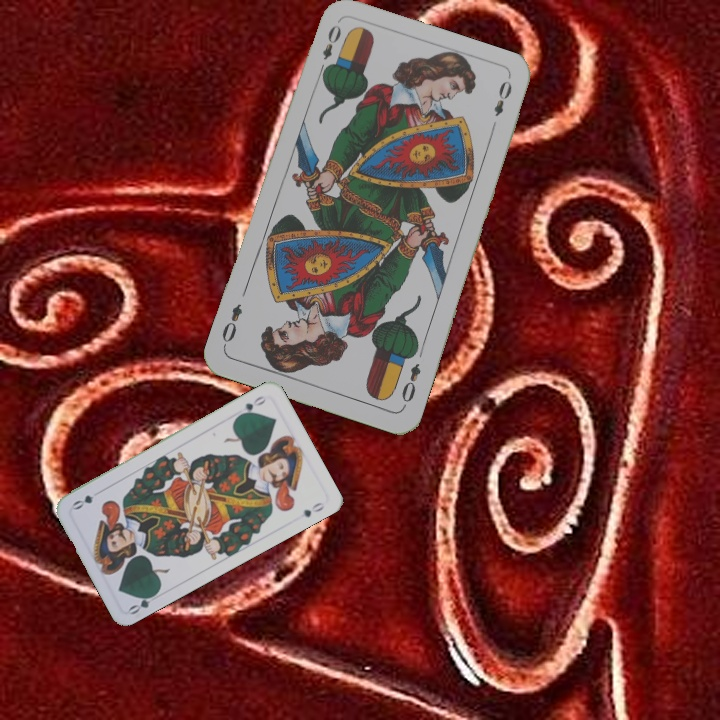EO: (315, 20, 344, 77), (397, 359, 424, 410)
GO: (125, 588, 161, 617), (234, 391, 269, 420)
